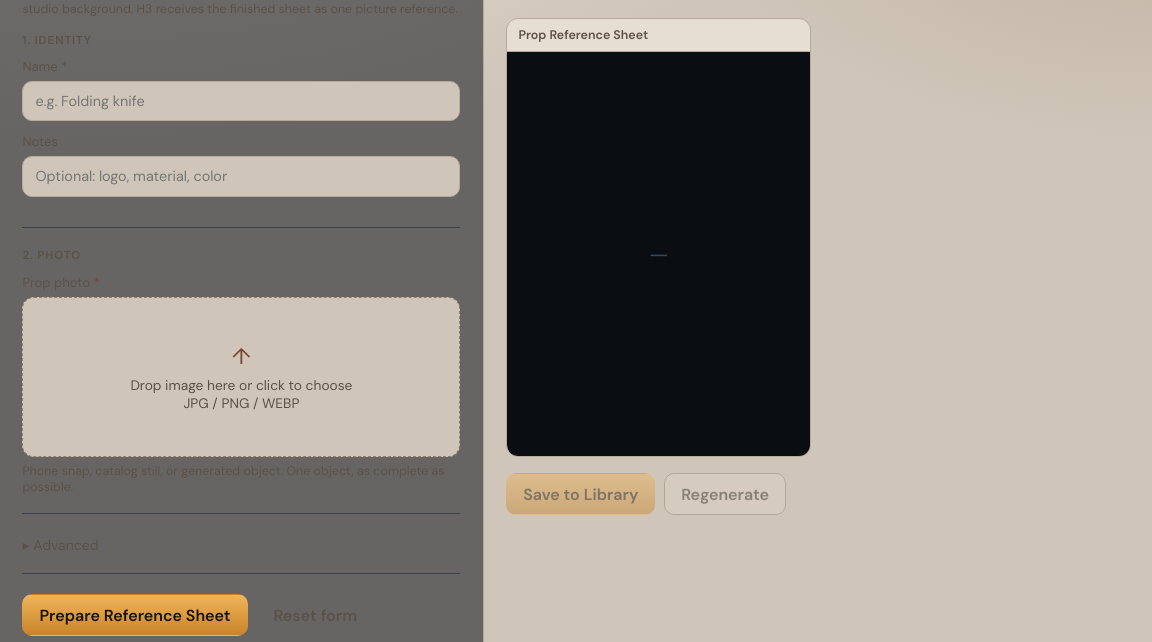
PropsPage › presents the prop result as a multi-view reference sheet
(page scrolled)
Click the button "Prepare Reference Sheet" at (135, 615), box 22,594 -> 248,636
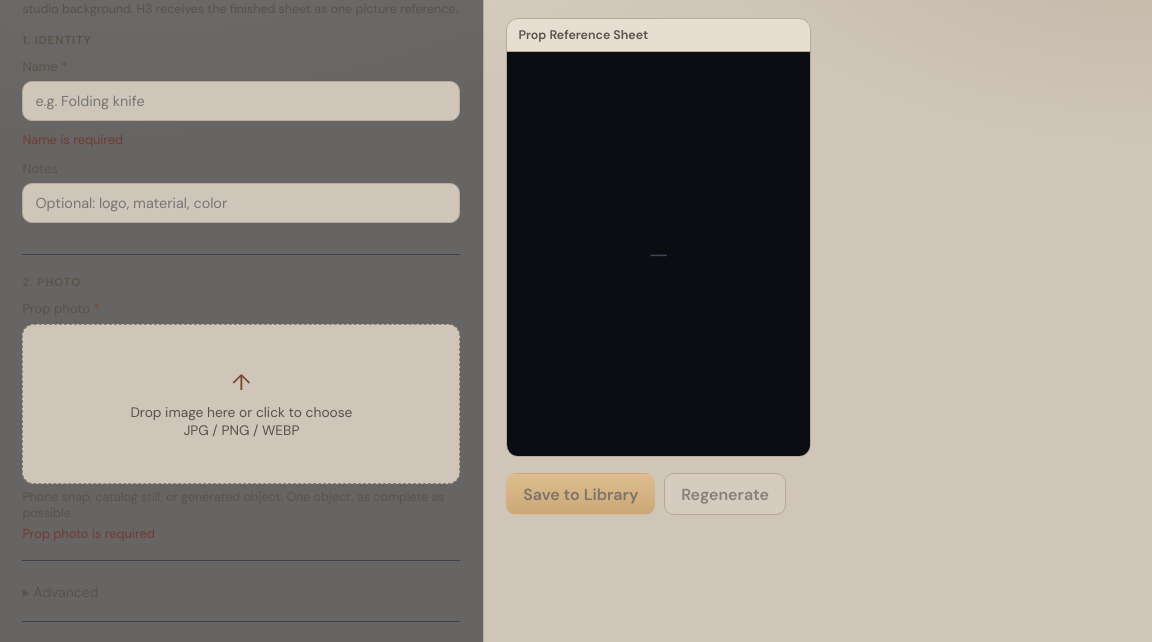
Expected: the text "Name is required" is shown, 22,131 -> 123,148
Expected: the text "Prop photo is required" is shown, 22,525 -> 155,542
